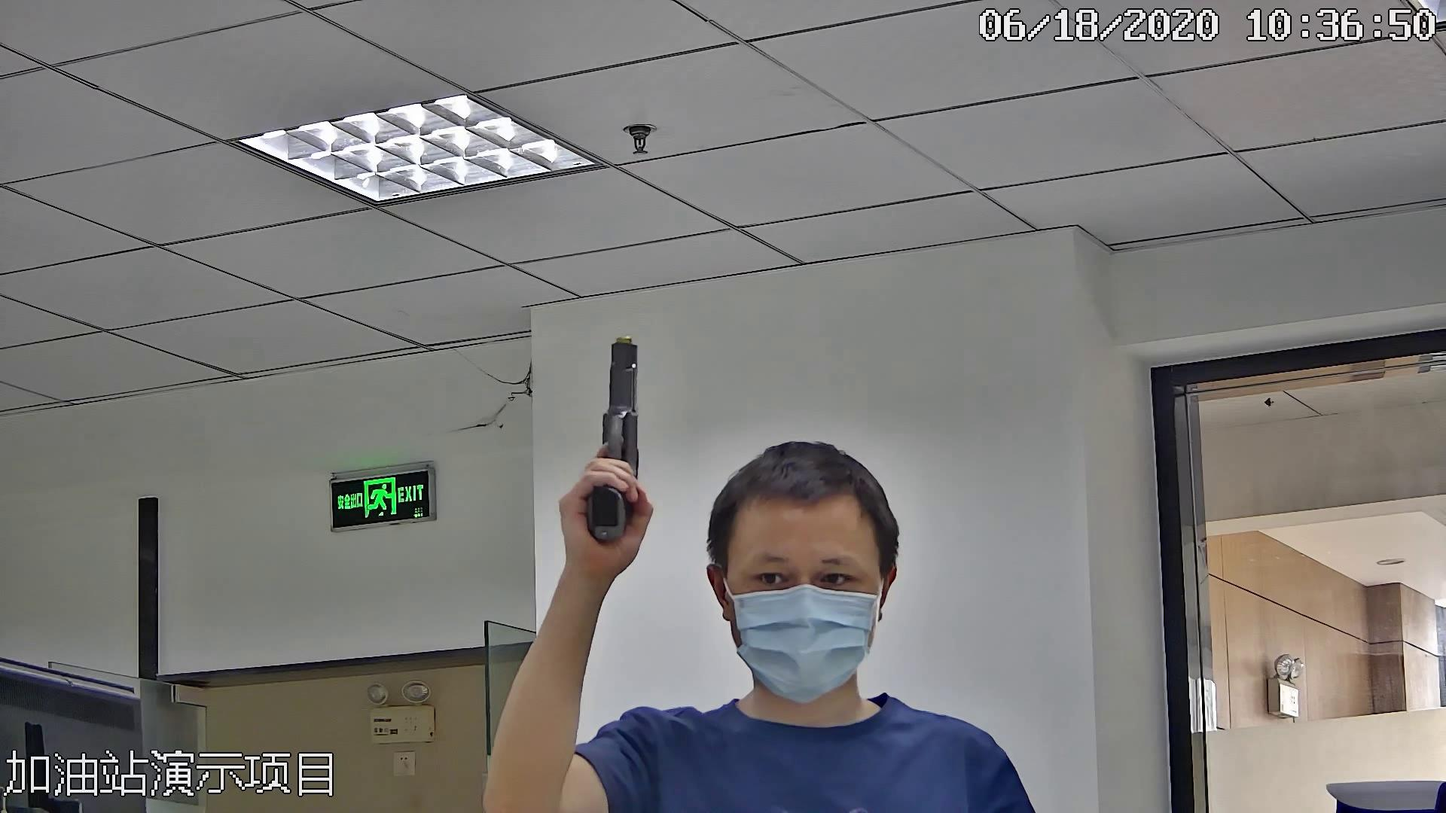gun: (554, 343, 670, 540)
